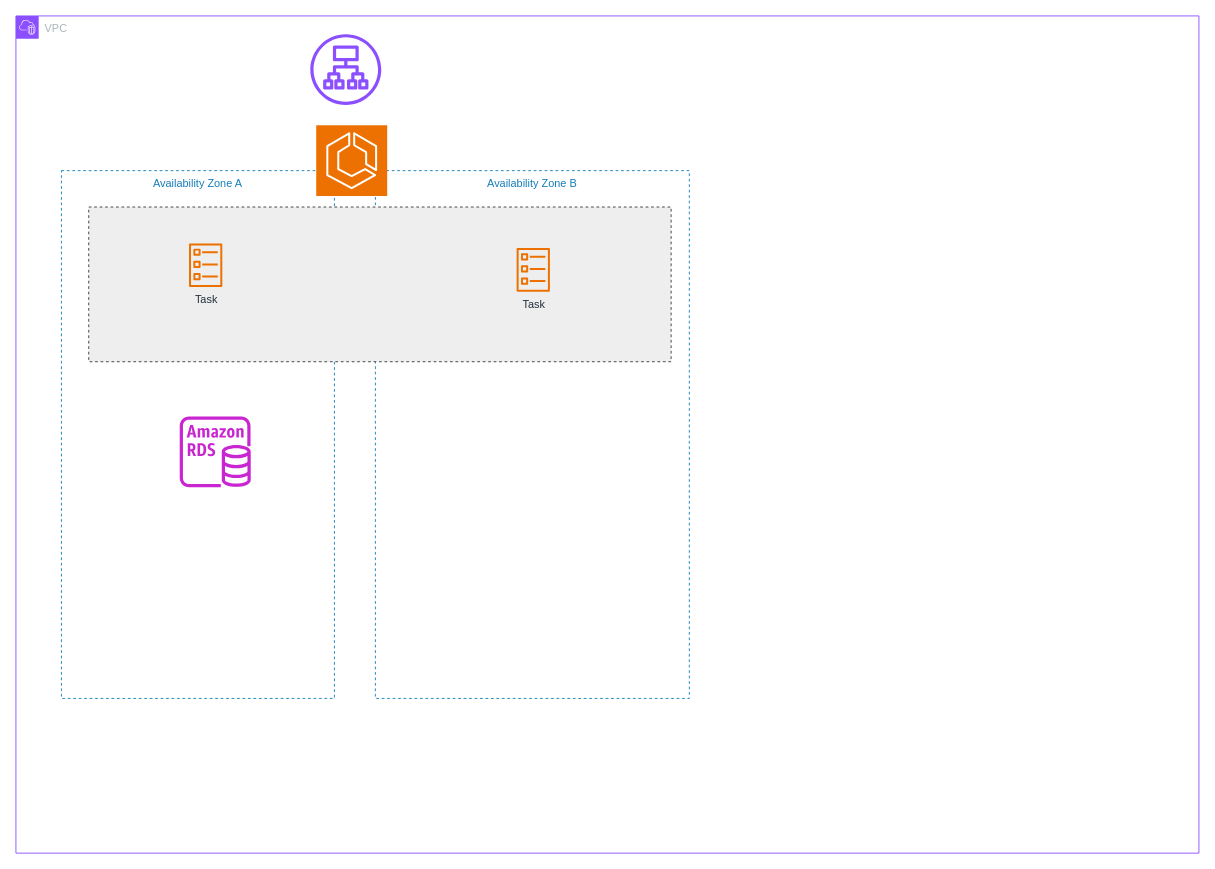
This 1215x869 diagram has some shape labels left out. The shapes that lost their labels are listed below. From the top down, each one's centre as x and y in pixels, then its label:
At point 345,69: "Application Load Balancer".
At point 214,451: "Database (Primary)".
